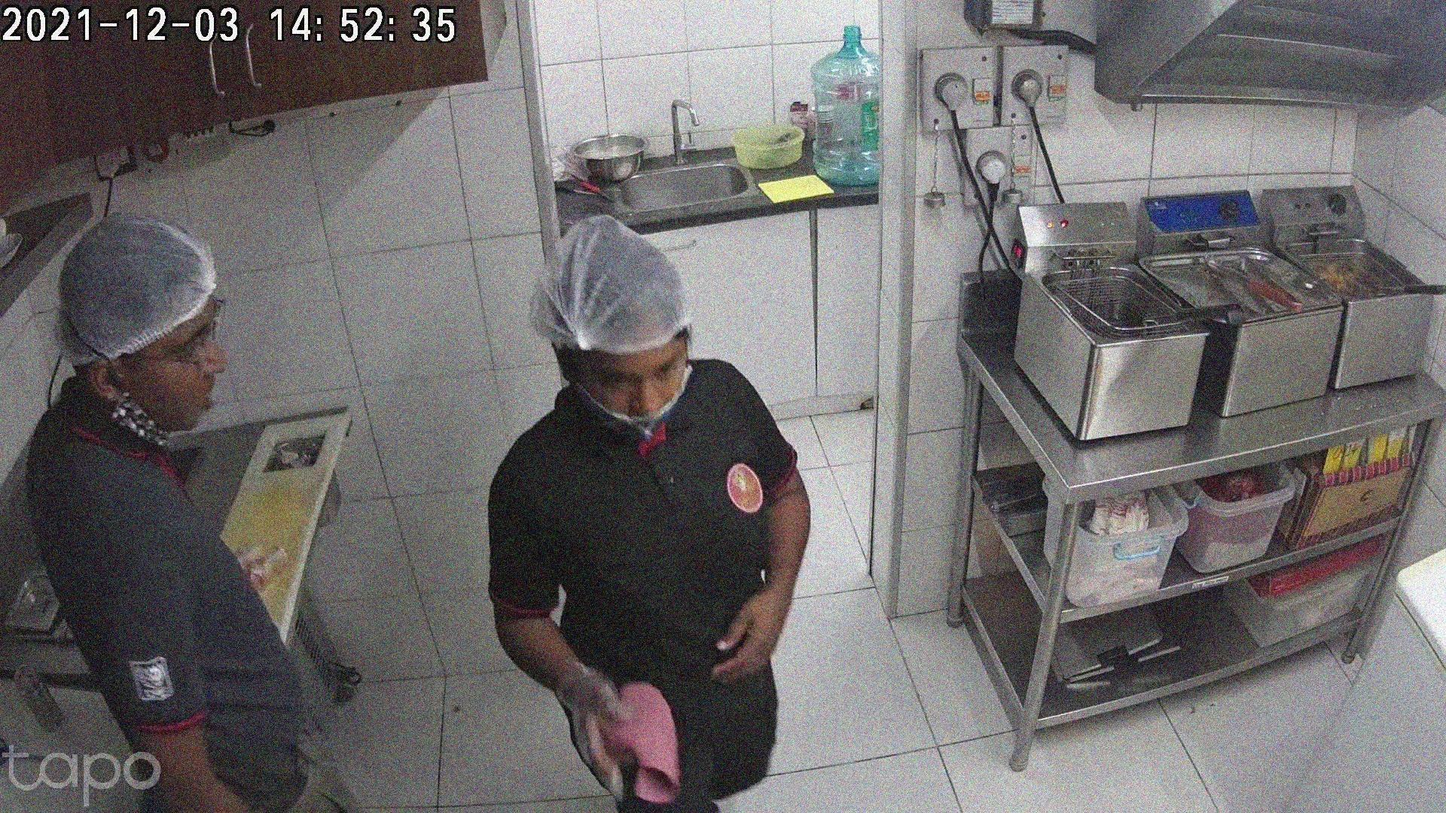apron: (543, 653, 649, 798)
gloves: (53, 201, 232, 376), (518, 222, 708, 362)
no_apron: (709, 570, 813, 721)
no_hairnet: (99, 301, 227, 450), (558, 335, 677, 449)
